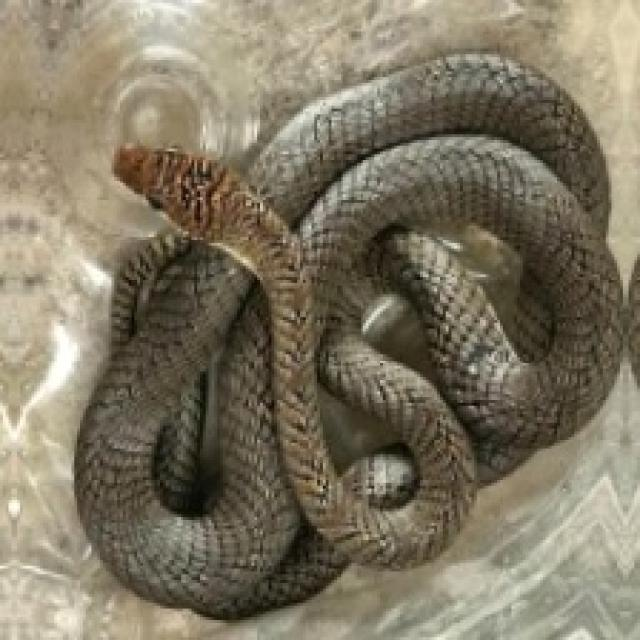paradise tree snake: (74, 54, 620, 614)
